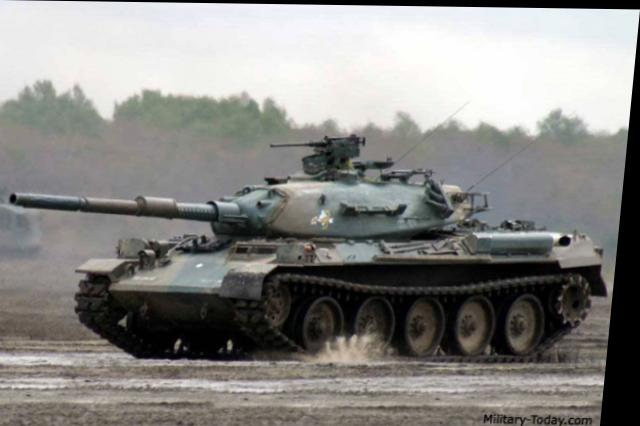tank: (80, 128, 621, 362)
